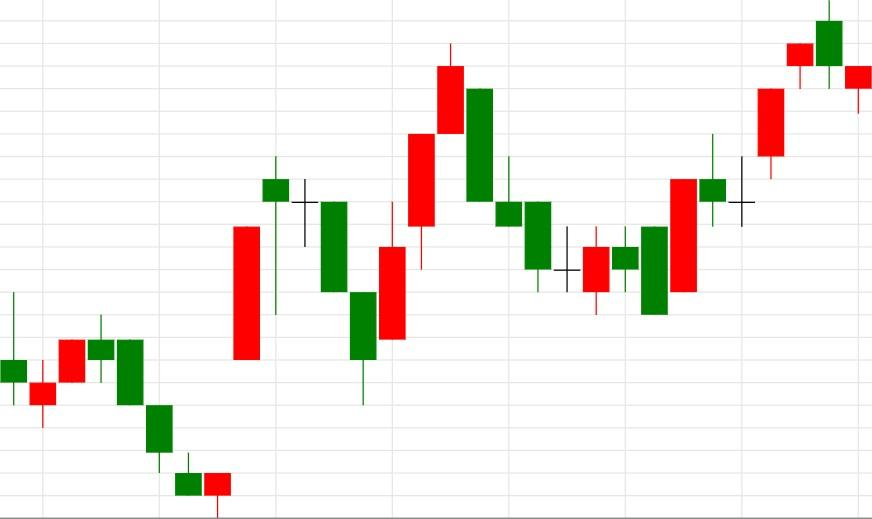bearish_engulfing_fall: (640, 0, 844, 316)
three_white_soldiers_rise: (262, 42, 465, 405)
